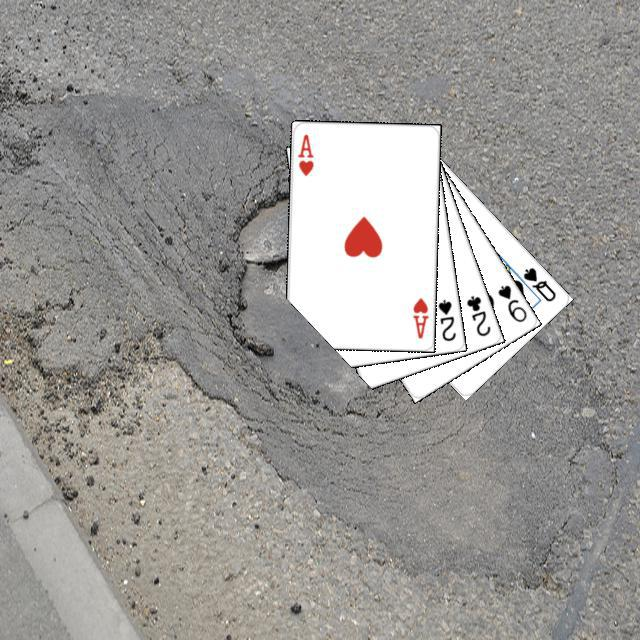2c: (461, 291, 492, 338)
2s: (433, 295, 457, 343)
9s: (493, 280, 528, 324)
Ah: (292, 129, 315, 177), (408, 293, 430, 340)
Qs: (518, 262, 558, 303)
